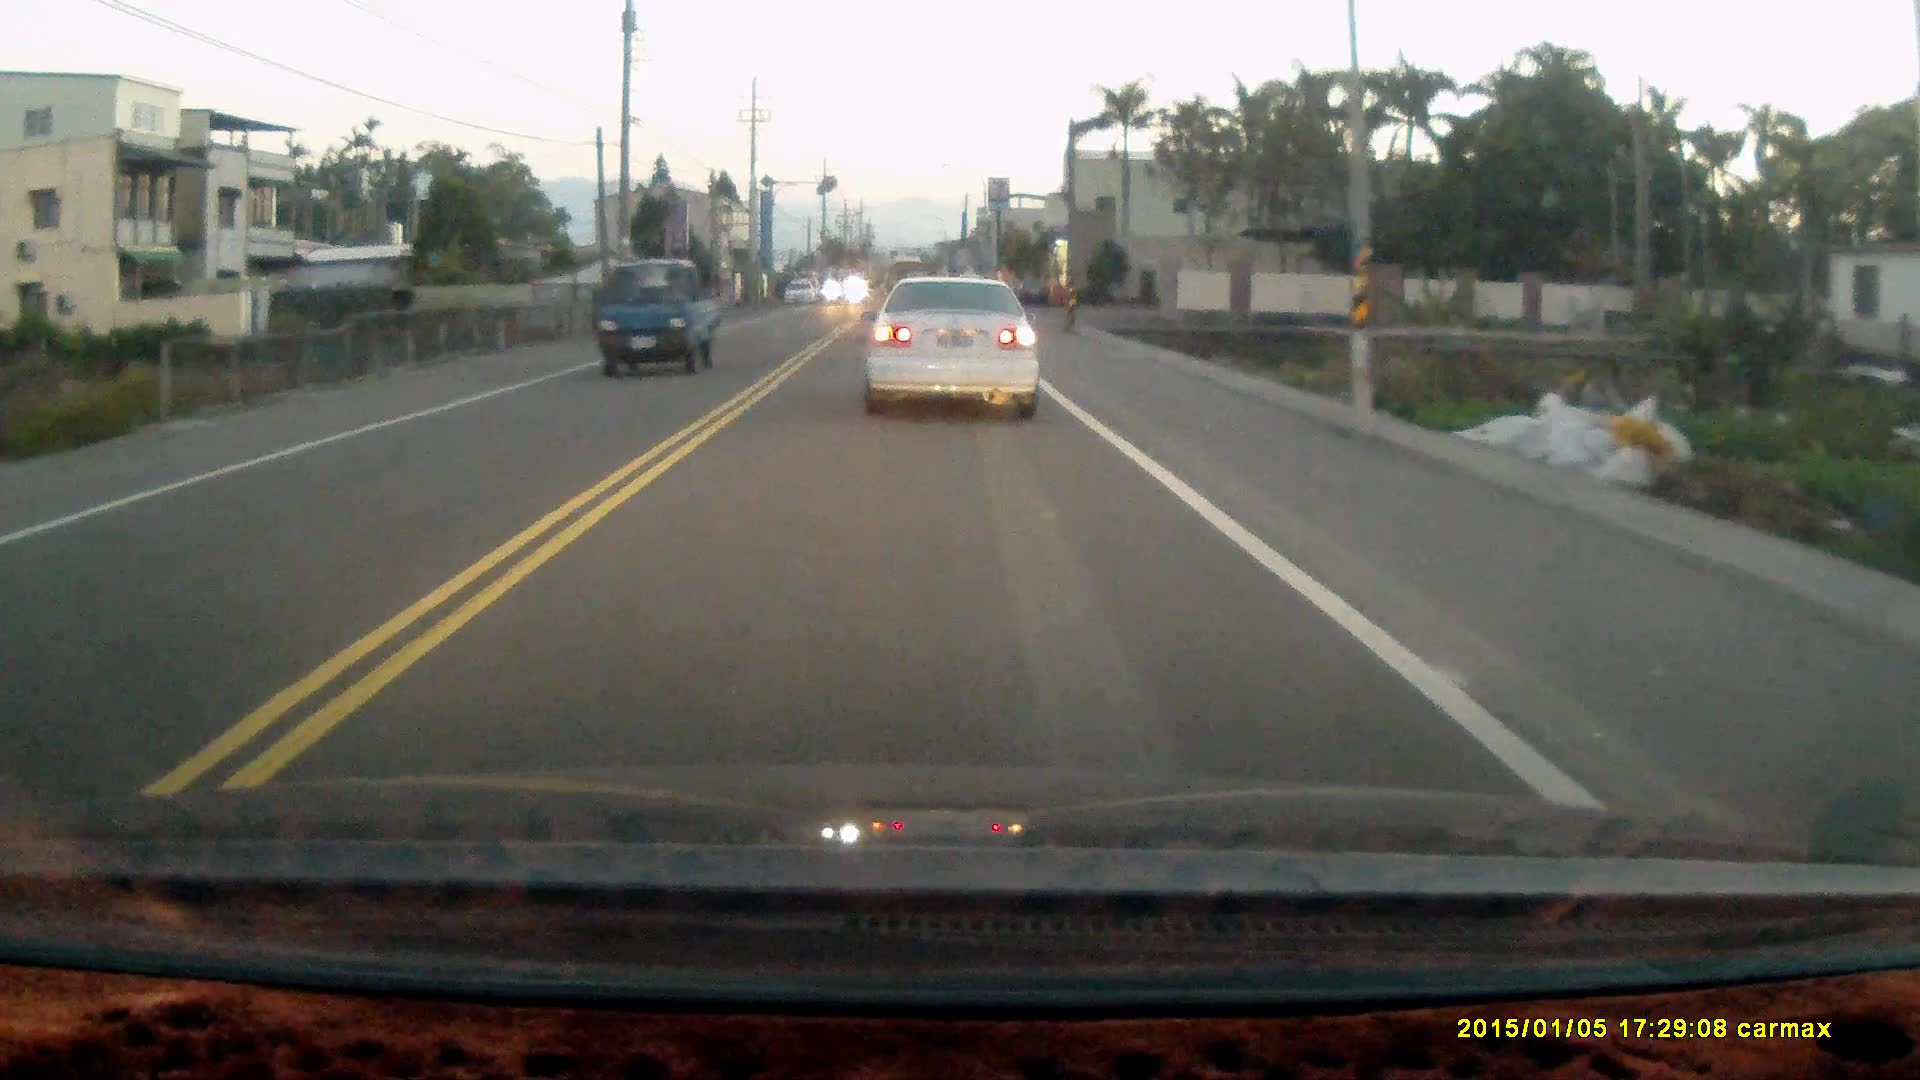vehicle: (868, 274, 1046, 429), (595, 258, 713, 380), (827, 266, 861, 305), (785, 280, 820, 309)
